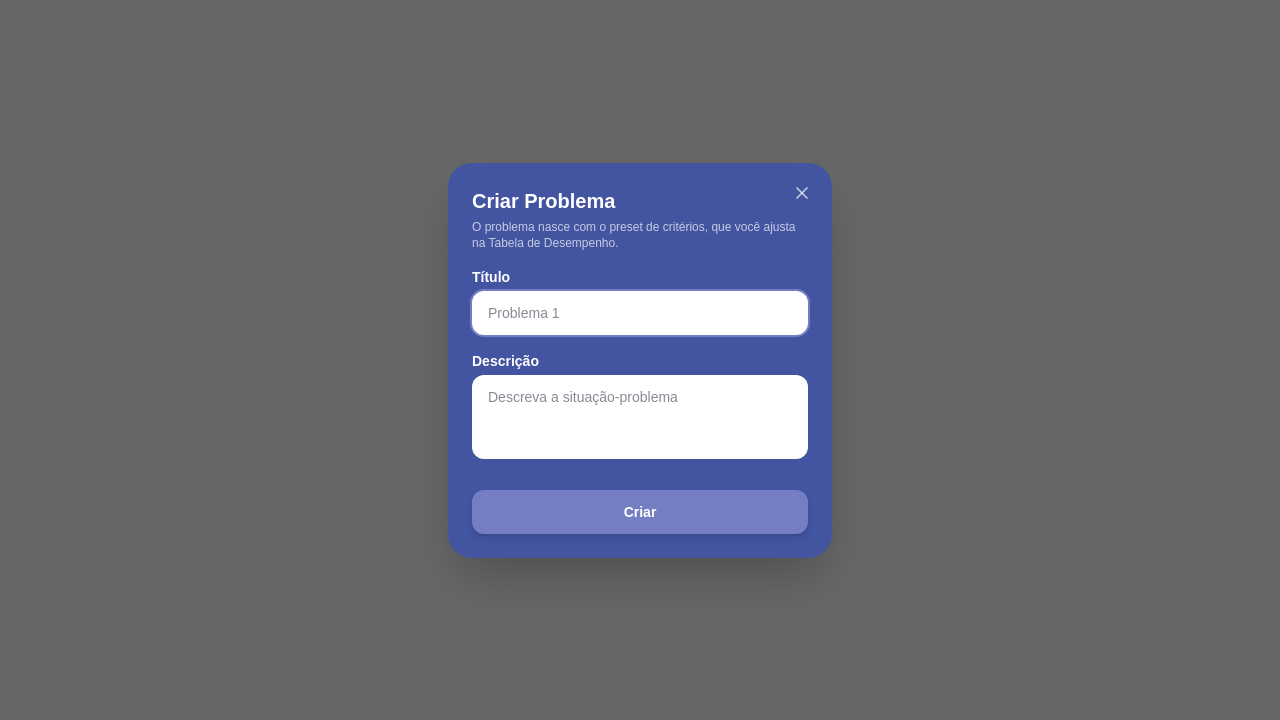
it: [US05] CreateProblemModal › Deve limpar o alerta assim que o tutor volta a digitar o título
Click the button "Criar" at (640,512), box [472,490,808,534]
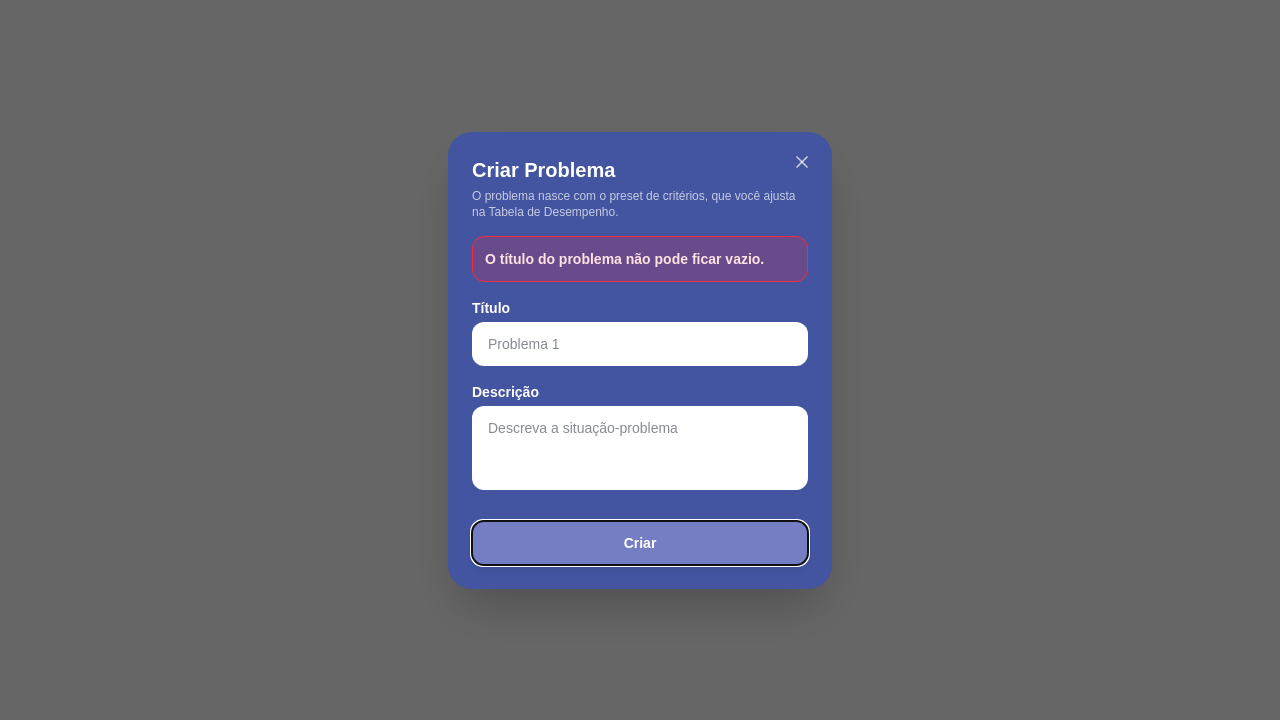
Expected: the message "O título do problema não pode ficar vazio." is shown, [472,236,808,282]
Type "P" into the field labelled "Título" at (640,344), box [472,322,808,366]
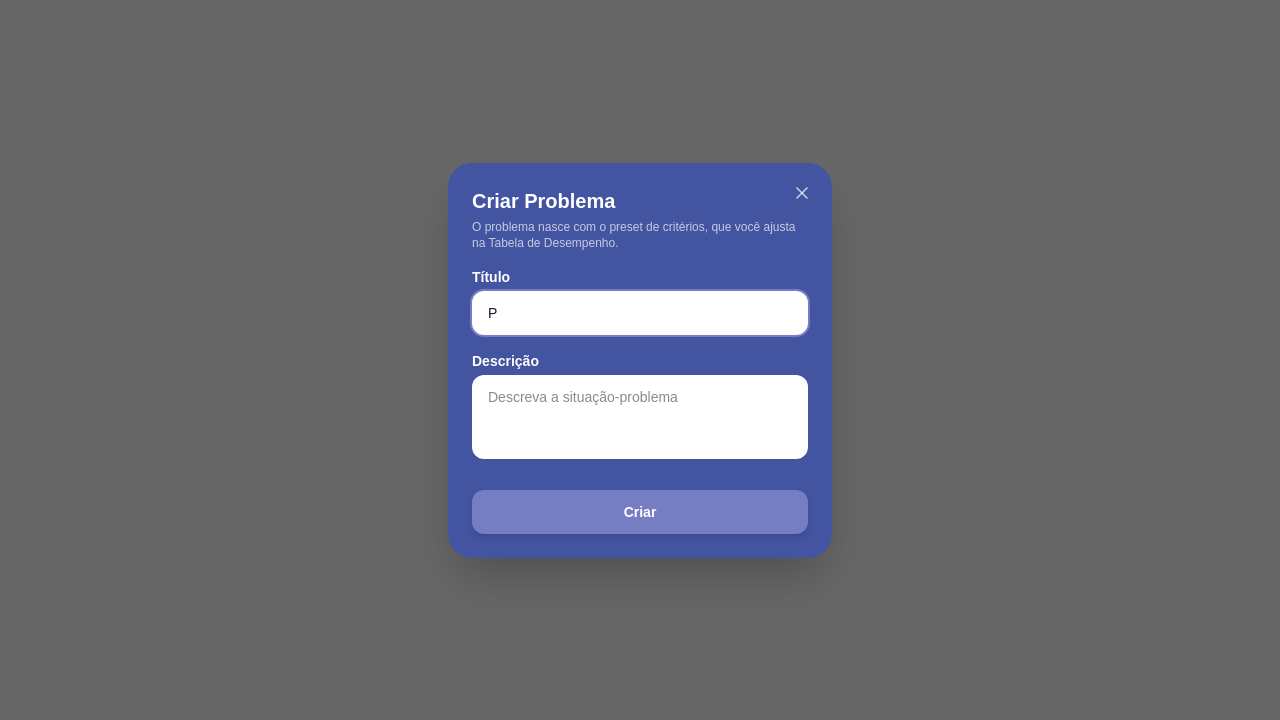
Expected: the message "O título do problema não pode ficar vazio." is gone
